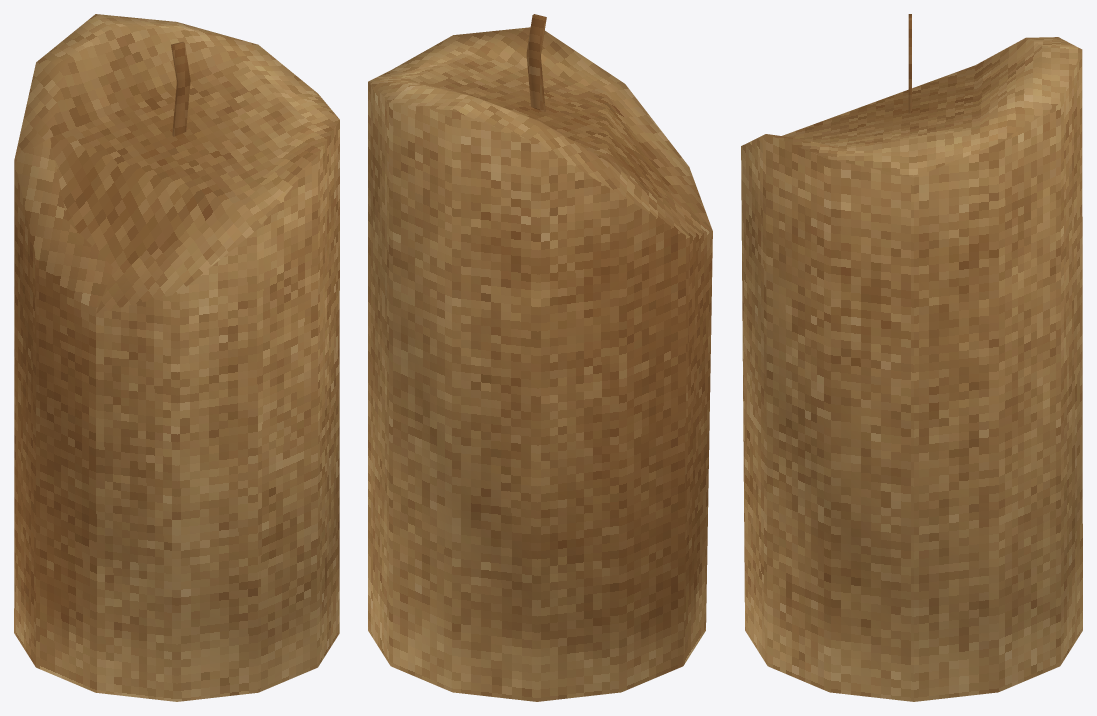
The model's file is Candle_2.gltf.
3 renders of one model, left to right at view 1: azimuth 30°, elevation 25°; view 2: azimuth 150°, elevation 25°; view 3: azimuth 270°, elevation 25°, orthographic. The views are drawn at different scales.
Visible parts, largest first — view 1: Candle_2; view 2: Candle_2; view 3: Candle_2.
Part boxes in pixels (x1=…): Candle_2: x1=14, y1=14, x2=339, y2=701; Candle_2: x1=368, y1=14, x2=712, y2=701; Candle_2: x1=741, y1=14, x2=1082, y2=701.
Bounding box in the file's own units: 0.7189 × 1.43 × 0.7208.
1 material, 1 textured.
